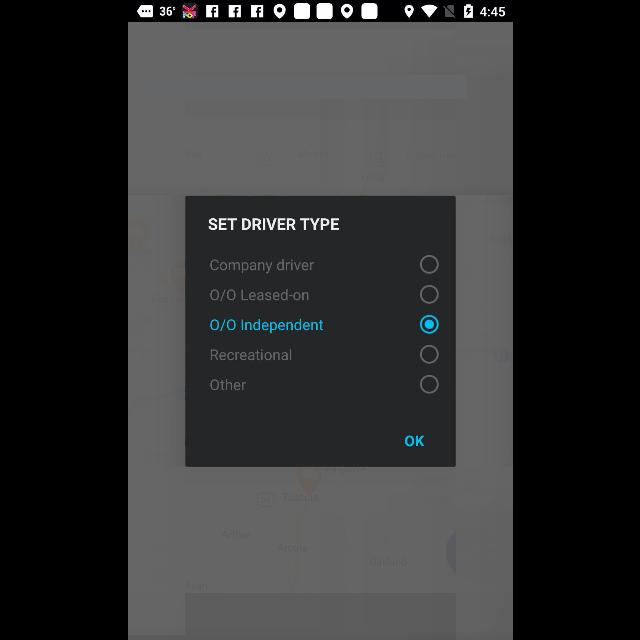checkbox: (418, 284, 438, 304), (419, 314, 438, 334), (419, 344, 438, 364), (419, 374, 438, 394), (419, 256, 438, 274)
panel: (184, 196, 456, 466)
text: (210, 319, 328, 333), (208, 218, 339, 230), (210, 259, 316, 273), (209, 289, 313, 301), (209, 348, 291, 362), (210, 379, 246, 391), (404, 435, 424, 447)
textbutton: (404, 435, 424, 447)
uppertaskbar: (128, 1, 512, 23)
